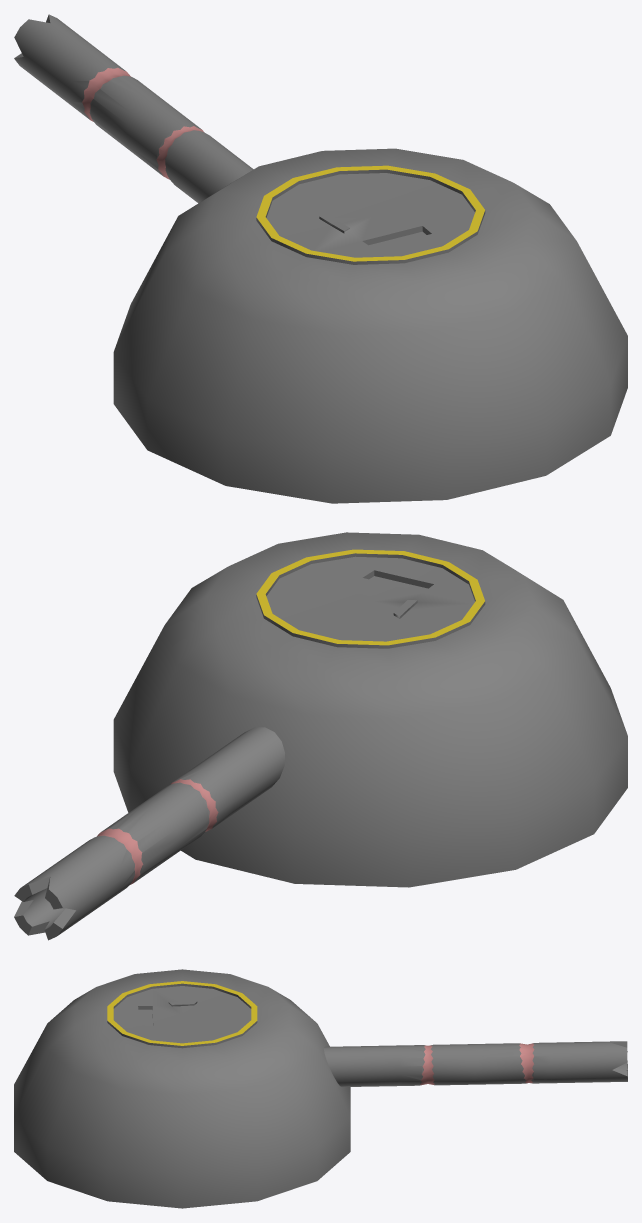
Rendered from Kanone.fbx.
The picture shows the model from 3 angles, top to bottom: view 1: azimuth 30°, elevation 25°; view 2: azimuth 150°, elevation 25°; view 3: azimuth 270°, elevation 25°; orthographic projection. The views are drawn at different scales.
Parts seen in each view (by area): view 1: Kanone; view 2: Kanone; view 3: Kanone.
Boxes of the visible parts, box(x1,y1,x2,y2) form: Kanone: box(14, 14, 627, 503); Kanone: box(14, 532, 627, 940); Kanone: box(14, 969, 627, 1208).
Size of the model in its own units: 73.12 by 130 by 28.51.
